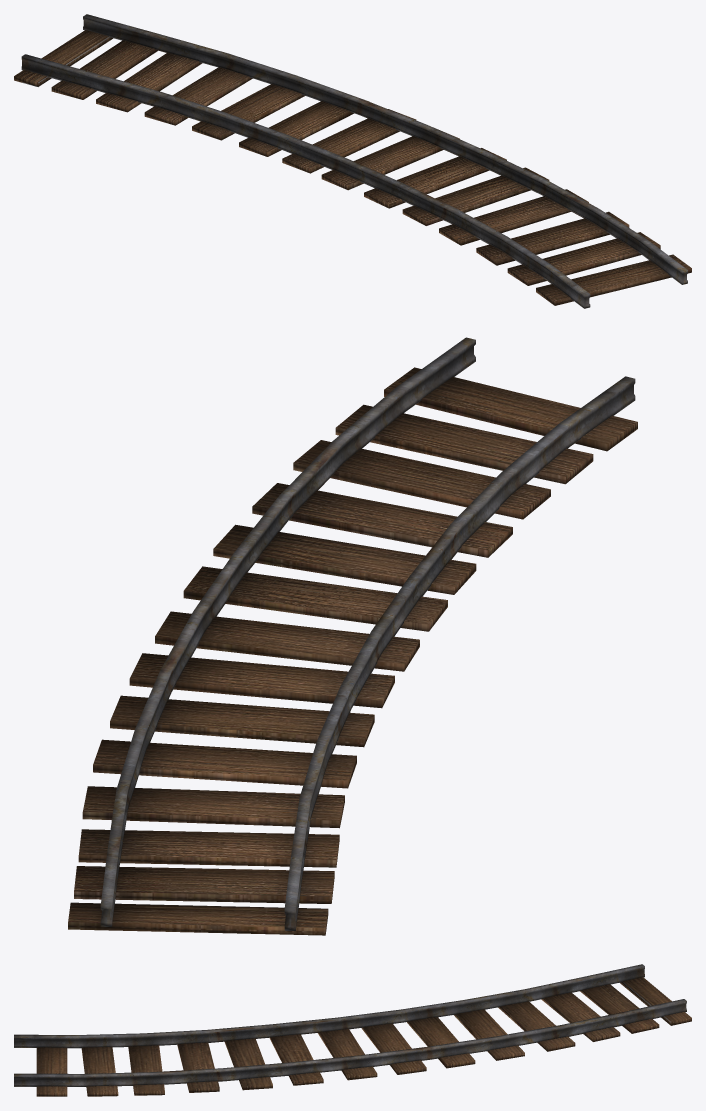
Rendered from Track30.fbx.
The picture shows the model from 3 angles, top to bottom: view 1: azimuth 30°, elevation 25°; view 2: azimuth 150°, elevation 25°; view 3: azimuth 270°, elevation 25°; orthographic projection. The views are drawn at different scales.
Visible parts, largest first — view 1: Cube1; view 2: Cube1; view 3: Cube1.
Part boxes in pixels (x1=…): Cube1: x1=14, y1=14, x2=691, y2=308; Cube1: x1=68, y1=337, x2=637, y2=935; Cube1: x1=14, y1=964, x2=691, y2=1096.
Bounding box in the file's own units: 4.73 × 0.245 × 10.94.
